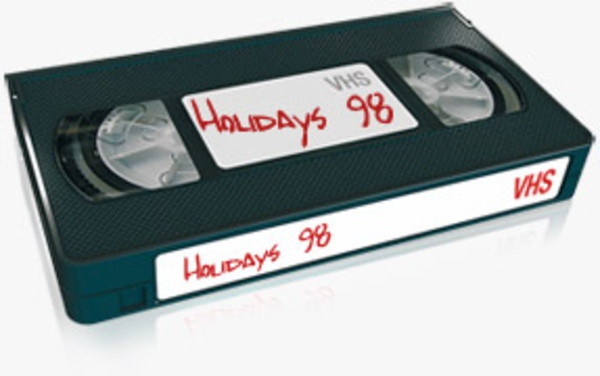Nonrec_Other: (3, 19, 596, 334)
